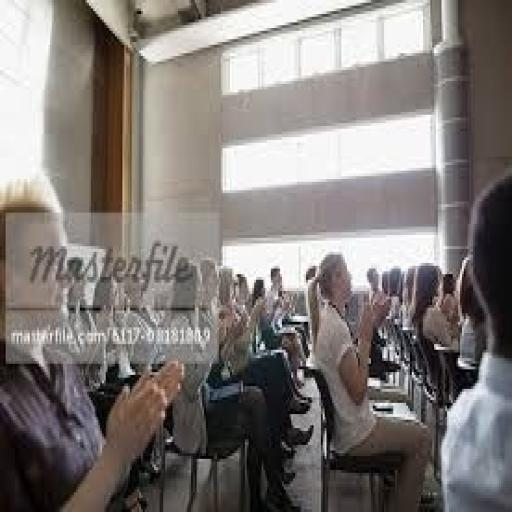clapping: (0, 162, 326, 512), (306, 249, 434, 509)
